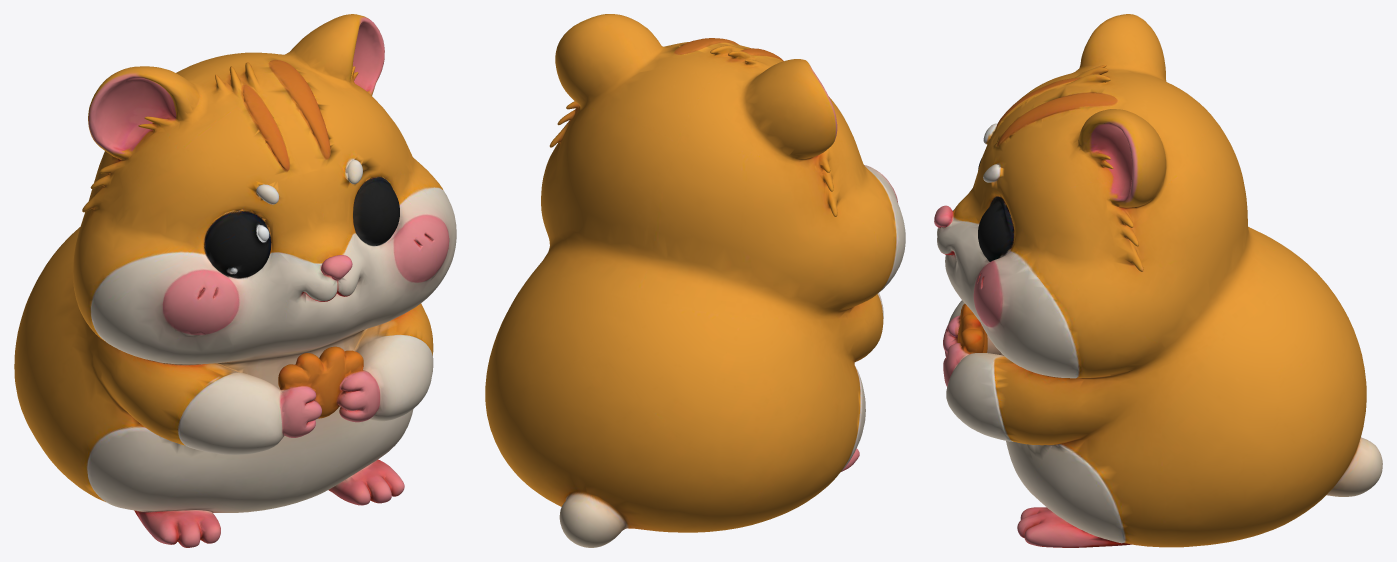
3 renders of one model, left to right at view 1: azimuth 30°, elevation 25°; view 2: azimuth 150°, elevation 25°; view 3: azimuth 270°, elevation 25°, orthographic. The views are drawn at different scales.
Visible parts, largest first — view 1: tripo_node_e7ae9cbc-7f58-42b6-8edc-bc194d775ccc_AnimatedRoot; view 2: tripo_node_e7ae9cbc-7f58-42b6-8edc-bc194d775ccc_AnimatedRoot; view 3: tripo_node_e7ae9cbc-7f58-42b6-8edc-bc194d775ccc_AnimatedRoot.
Boxes of the visible parts, x1,y1,x2,y2 form: tripo_node_e7ae9cbc-7f58-42b6-8edc-bc194d775ccc_AnimatedRoot: [14, 14, 456, 547]; tripo_node_e7ae9cbc-7f58-42b6-8edc-bc194d775ccc_AnimatedRoot: [485, 14, 905, 547]; tripo_node_e7ae9cbc-7f58-42b6-8edc-bc194d775ccc_AnimatedRoot: [934, 14, 1382, 547].
Size of the model in its own units: 0.1256 by 0.15 by 0.1422.
Materials: 1 (1 with a texture image).
